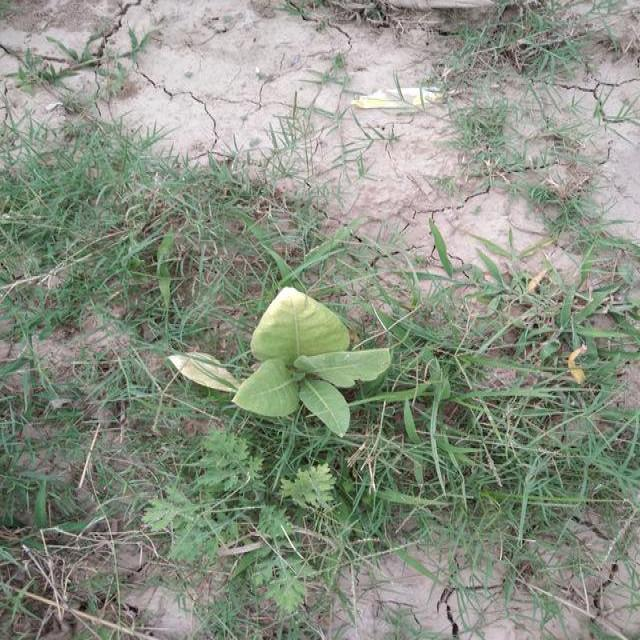crop: (169, 283, 392, 438)
